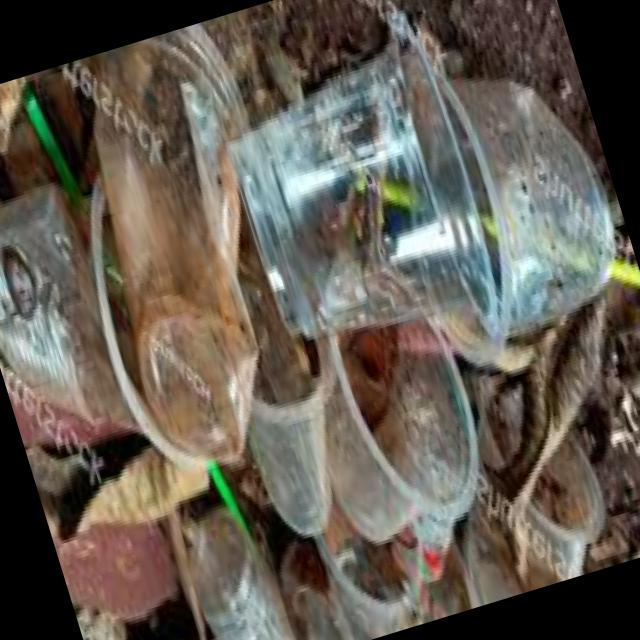GelasPlastik: (52, 32, 334, 478), (201, 24, 513, 404), (259, 235, 508, 580), (0, 160, 221, 509)
